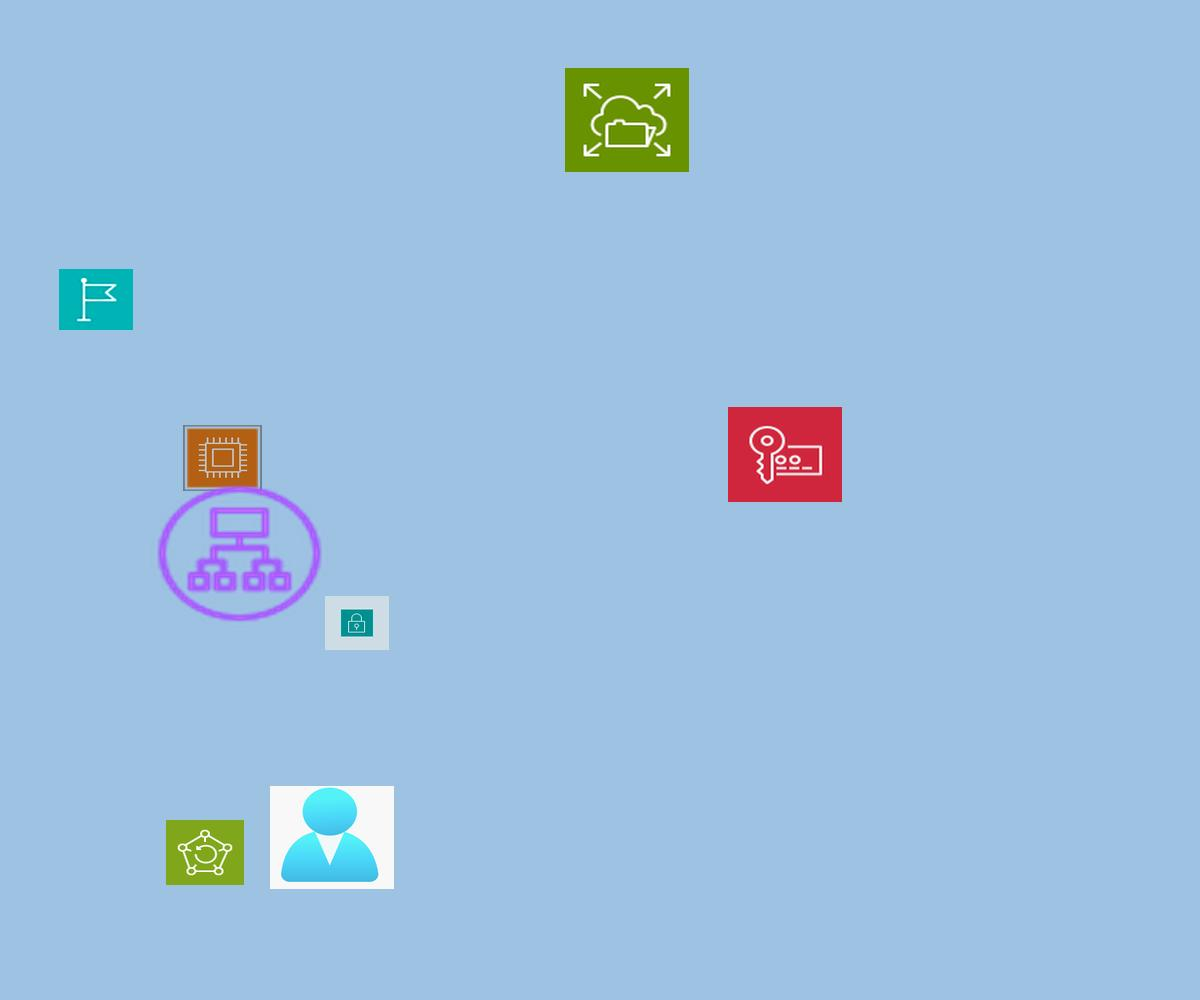AWS-Backup: (166, 820, 244, 885)
AWS-Category_Compute: (183, 425, 262, 491)
AWS-EFS: (565, 68, 689, 172)
AWS-Key-Management-Service: (728, 407, 842, 502)
AWS-Private-subnet: (325, 596, 389, 650)
AWS-Region: (59, 269, 133, 330)
AWS-Res_Elastic-Load-Balancing_Application-Load-Balancer: (151, 480, 328, 627)
Azure_users: (270, 786, 394, 889)
